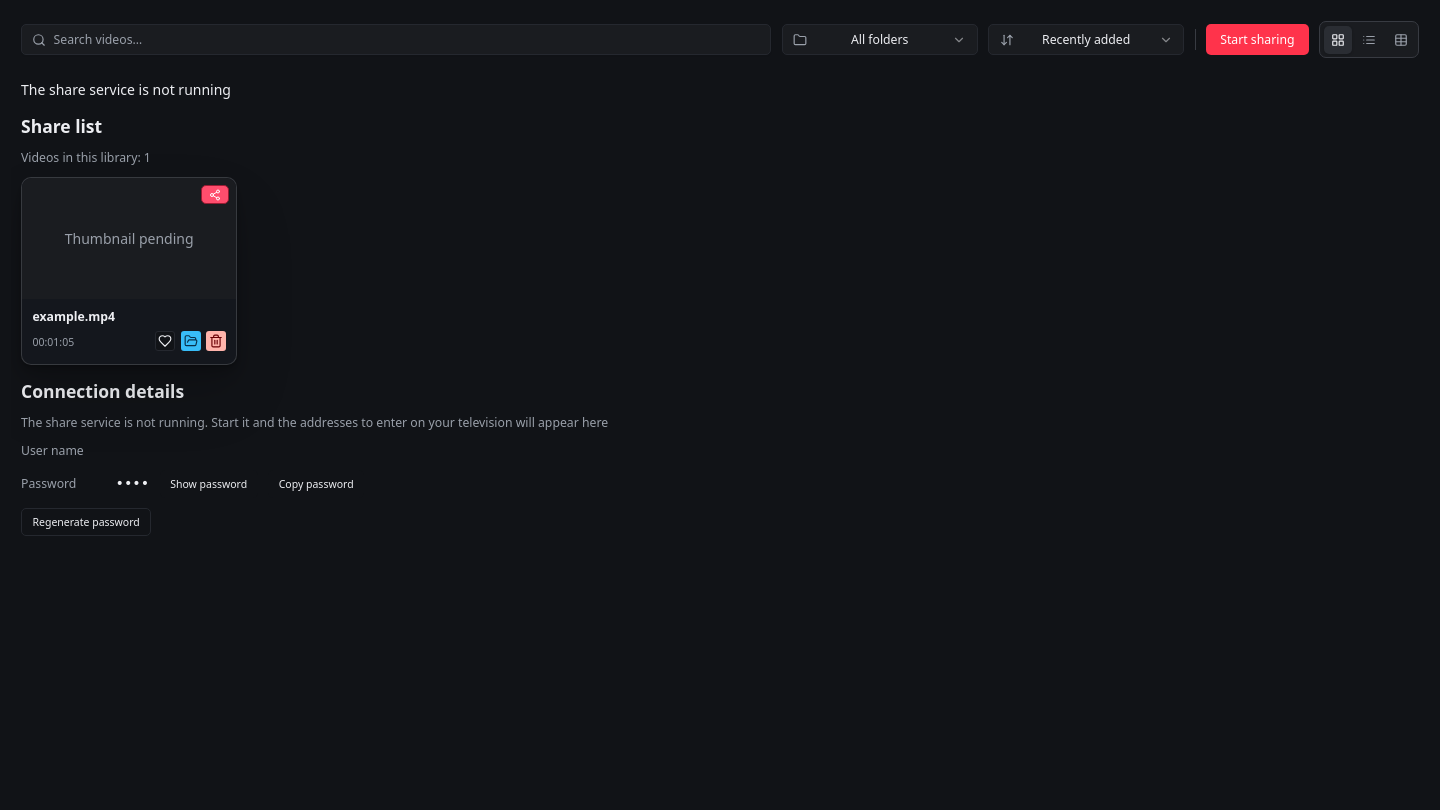
Test case: says so, beside the reference, when the service cannot start
Click the button "Start sharing" at (1257, 40), box [1206, 24, 1308, 55]
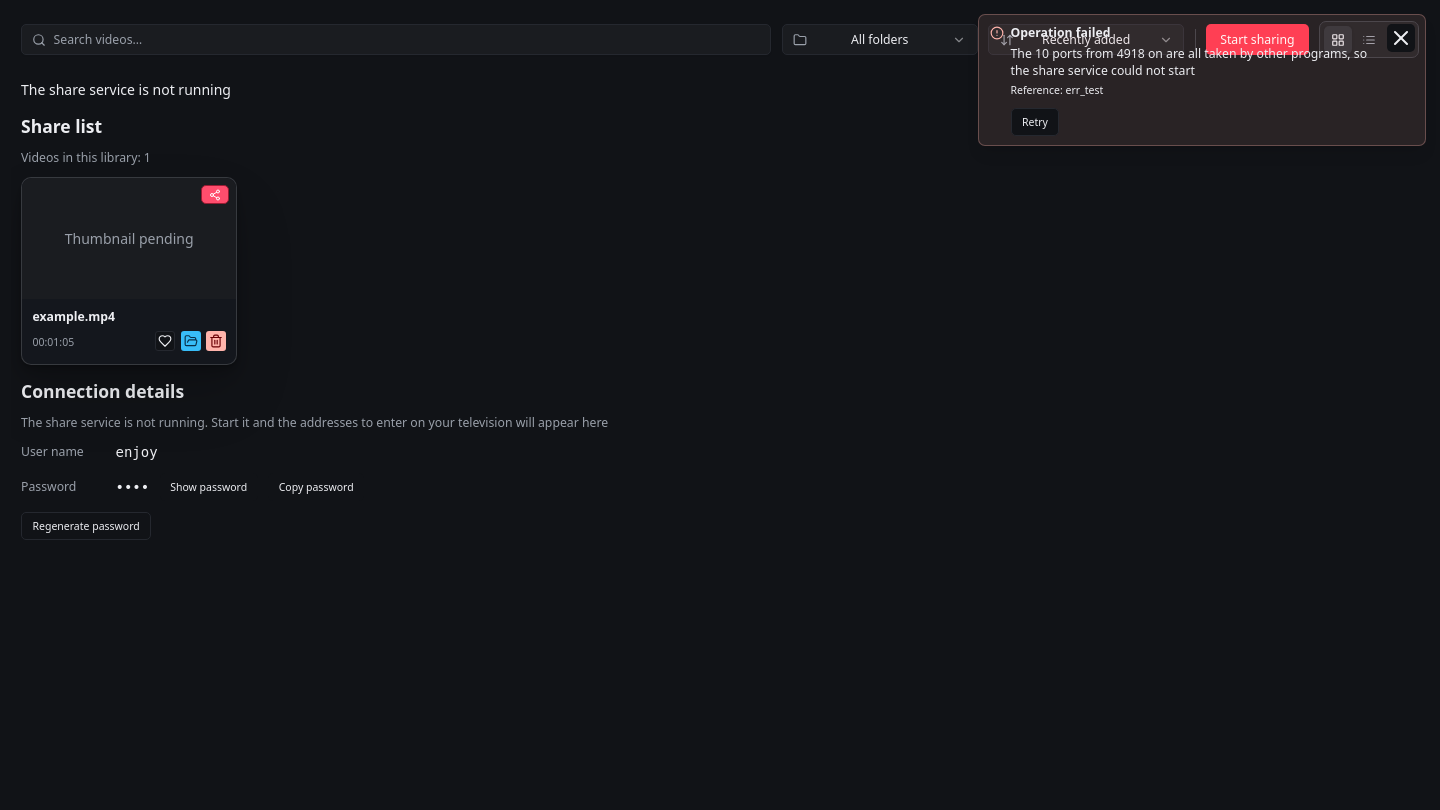
Result: the heading "Operation failed" is shown at [1010, 24, 1110, 41]
